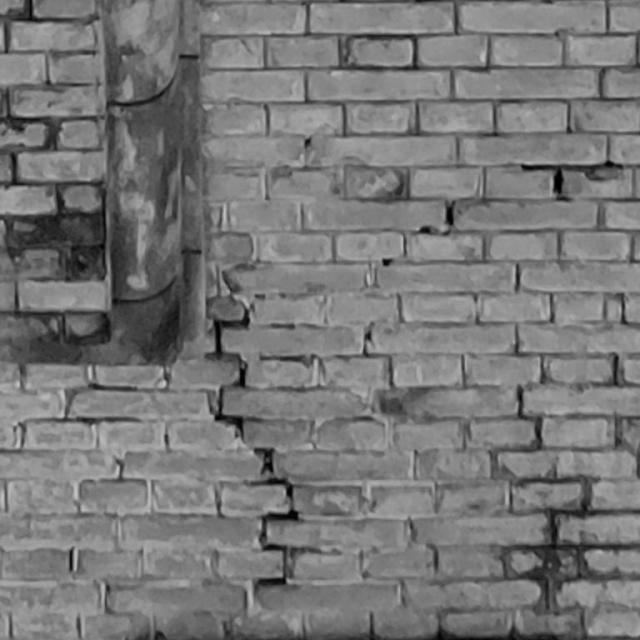crack: (214, 309, 298, 586), (381, 198, 456, 266), (520, 162, 624, 194)
